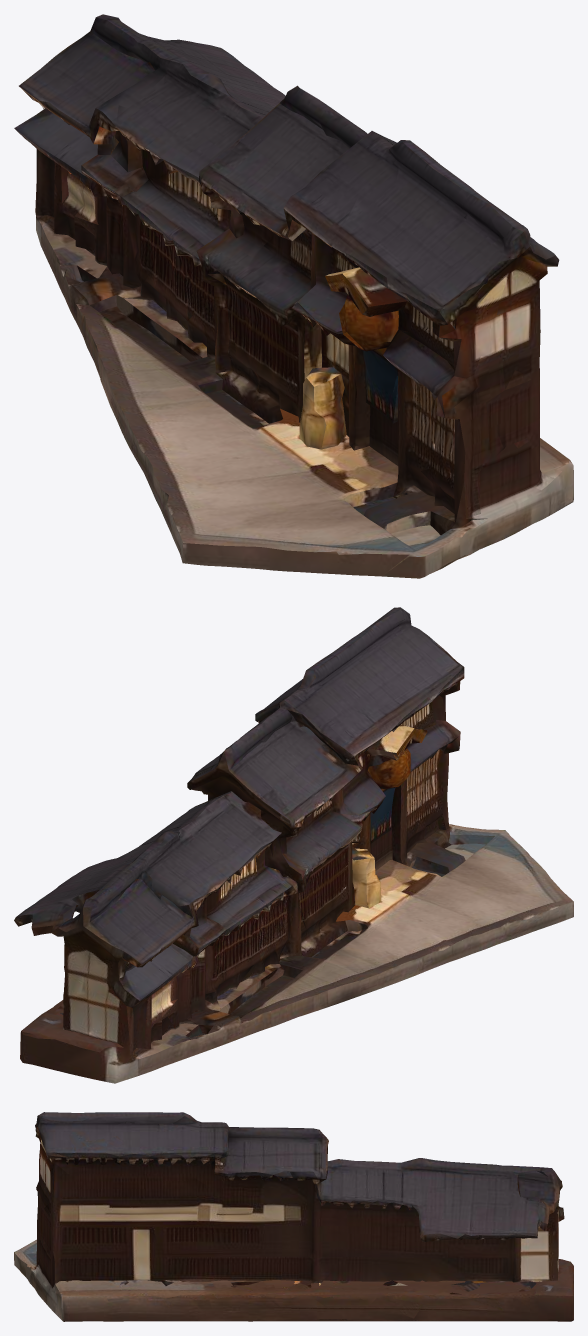
The model's file is hida-takayama.glb.
3 renders of one model, top to bottom at view 1: azimuth 30°, elevation 25°; view 2: azimuth 150°, elevation 25°; view 3: azimuth 270°, elevation 25°, orthographic. The views are drawn at different scales.
Parts seen in each view (by area): view 1: logan-textured.obj; view 2: logan-textured.obj; view 3: logan-textured.obj.
Part boxes in pixels (box(x1,y1,x2,y2)): logan-textured.obj: box(14, 14, 573, 578); logan-textured.obj: box(14, 607, 573, 1083); logan-textured.obj: box(14, 1112, 573, 1321).
Size of the model in its own units: 0.4978 by 0.3712 by 1.
Materials: 1 (1 with a texture image).
